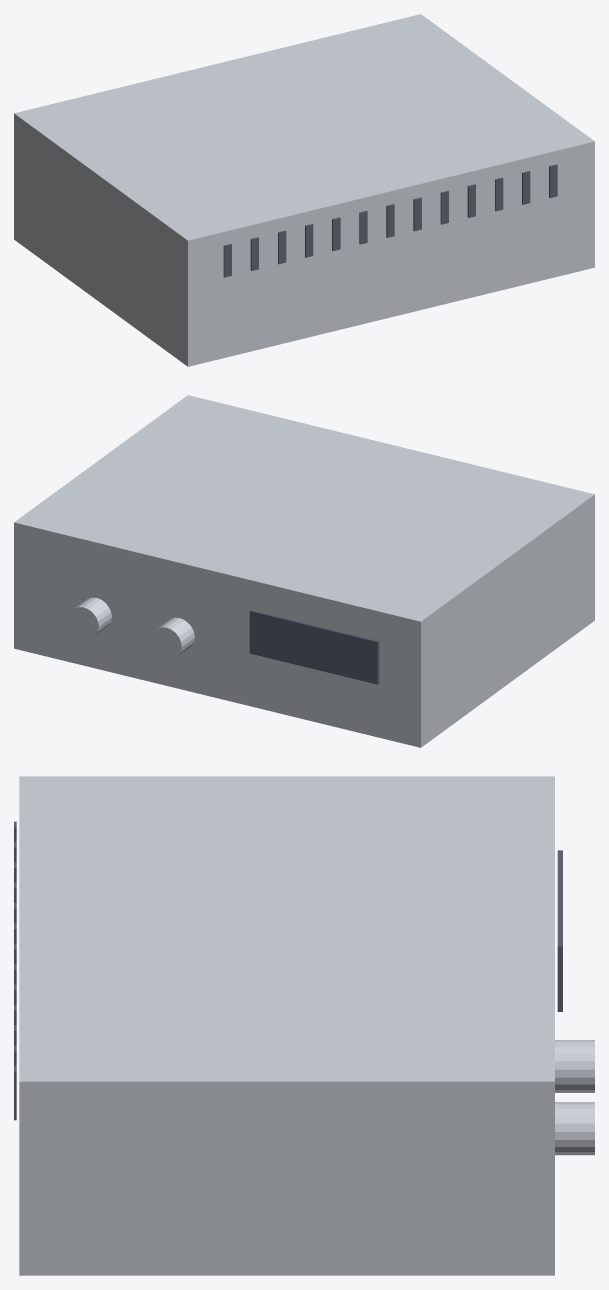
Rendered from chip-illumination-controller-v1.glb.
3 renders of one model, top to bottom at view 1: azimuth 30°, elevation 25°; view 2: azimuth 150°, elevation 25°; view 3: azimuth 270°, elevation 25°, orthographic. The views are drawn at different scales.
Parts seen in each view (by area): view 1: silver controller enclosure; view 2: silver controller enclosure, black display, silver control knob (×2); view 3: silver controller enclosure, silver control knob (×2), black display.
Boxes of the visible parts, x1,y1,x2,y2 form: silver controller enclosure: (14, 14, 594, 366); silver controller enclosure: (14, 395, 594, 747); black display: (249, 609, 379, 684); silver control knob (×2): (68, 597, 194, 659); silver controller enclosure: (19, 776, 554, 1275); silver control knob (×2): (555, 1040, 594, 1155); black display: (557, 850, 562, 1011).
Size of the model in its own units: 0.27 by 0.08 by 0.217.
